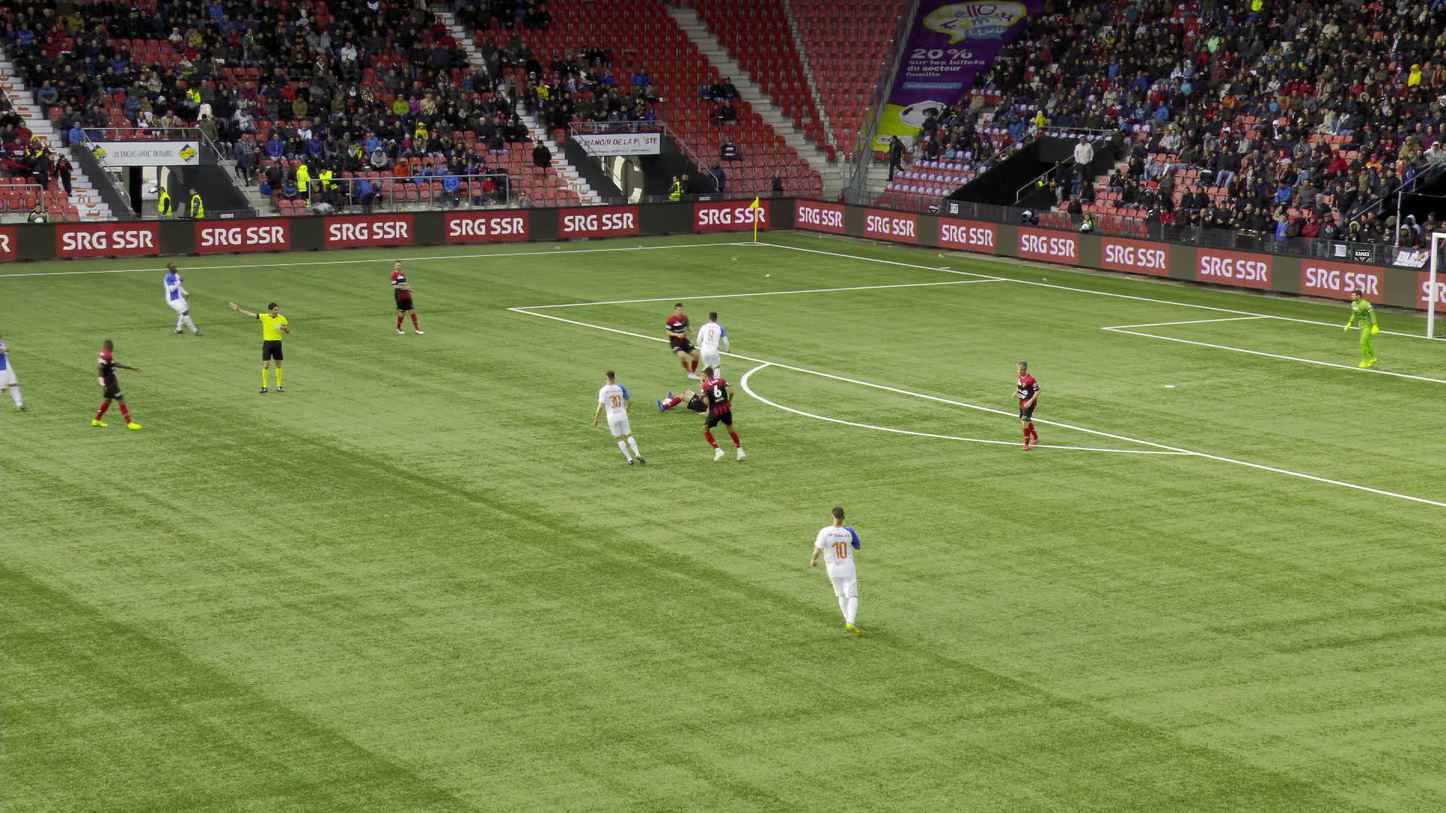ball: (663, 398, 672, 404)
player: (809, 504, 862, 635), (697, 370, 746, 461), (87, 338, 135, 430), (595, 367, 638, 466), (160, 261, 203, 335), (657, 301, 697, 379), (1344, 294, 1383, 371), (384, 261, 421, 334), (1012, 360, 1042, 449), (691, 313, 728, 384), (0, 329, 28, 411), (657, 385, 718, 413)
referee: (227, 300, 290, 392)
